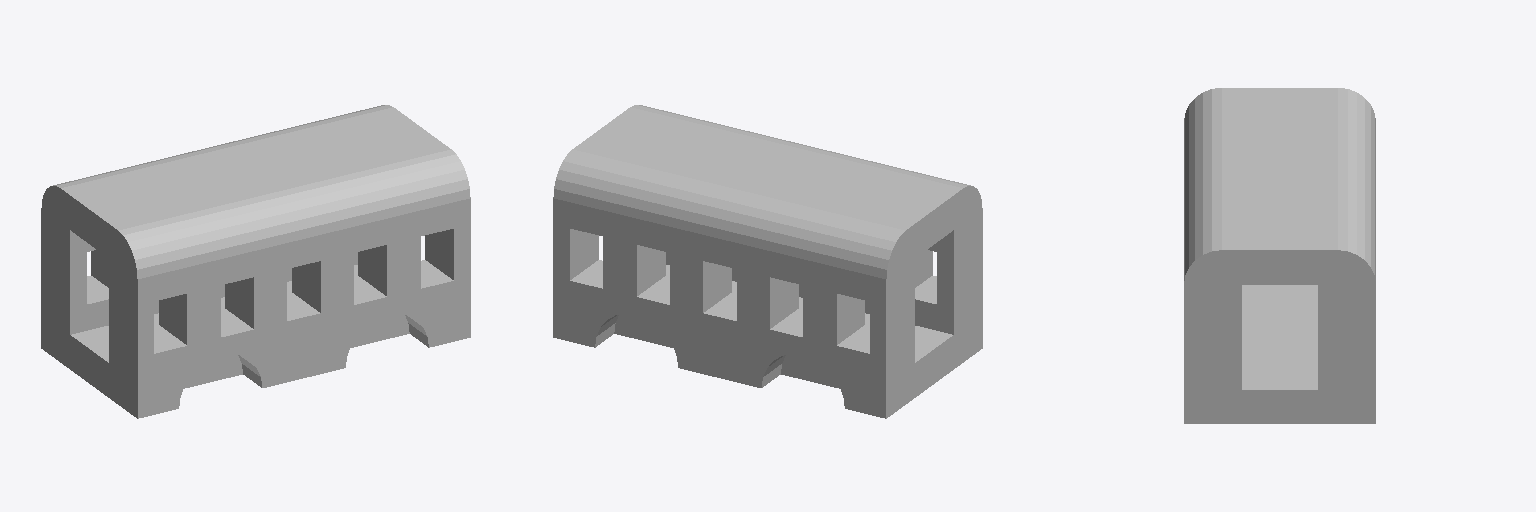
Rendered from train v4.obj.
The picture shows the model from 3 angles: view 1: azimuth 30°, elevation 25°; view 2: azimuth 150°, elevation 25°; view 3: azimuth 270°, elevation 25°; orthographic projection.
Visible parts, largest first — view 1: Body1; view 2: Body1; view 3: Body1.
Part boxes in pixels (bbox=[...]): Body1: bbox=[41, 105, 470, 418]; Body1: bbox=[553, 105, 982, 418]; Body1: bbox=[1184, 88, 1375, 423].
Size of the model in its own units: 20 by 10 by 10.